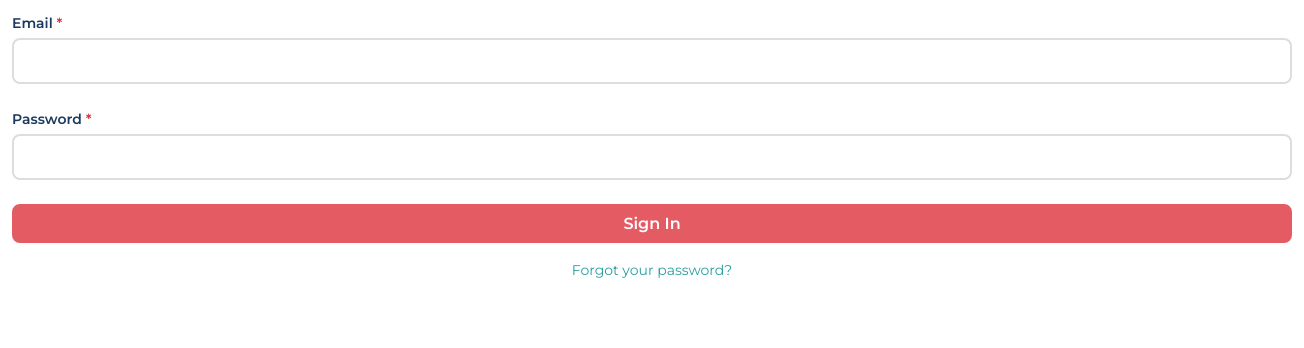
LoginForm › validates empty submit
The width and height of the screenshot is (1304, 348).
Click the button "Sign In": (652, 224) [12,204,1292,243]
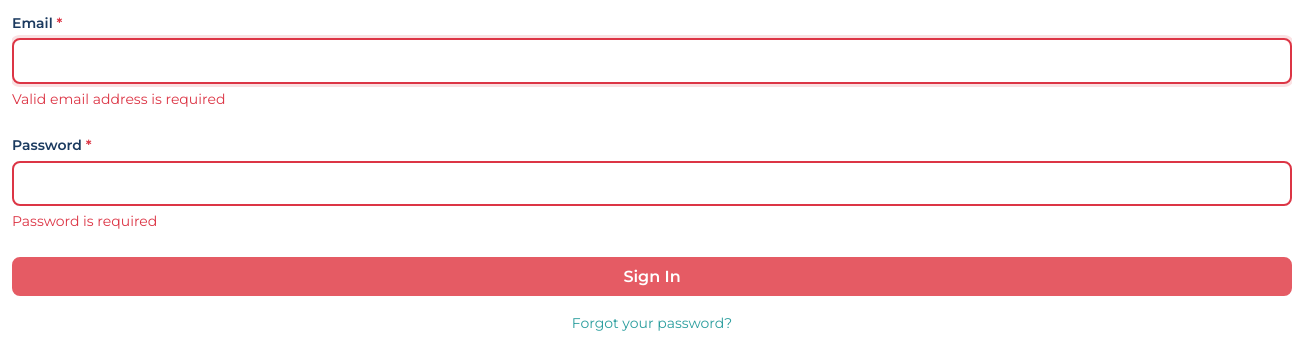
Expected: the text "Valid email address is required" is shown, [12,90,225,108]
